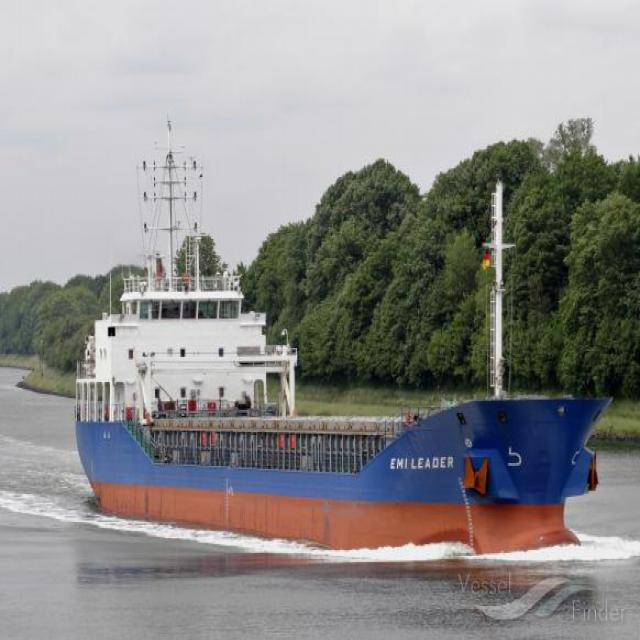OCR: (382, 449, 455, 476)
